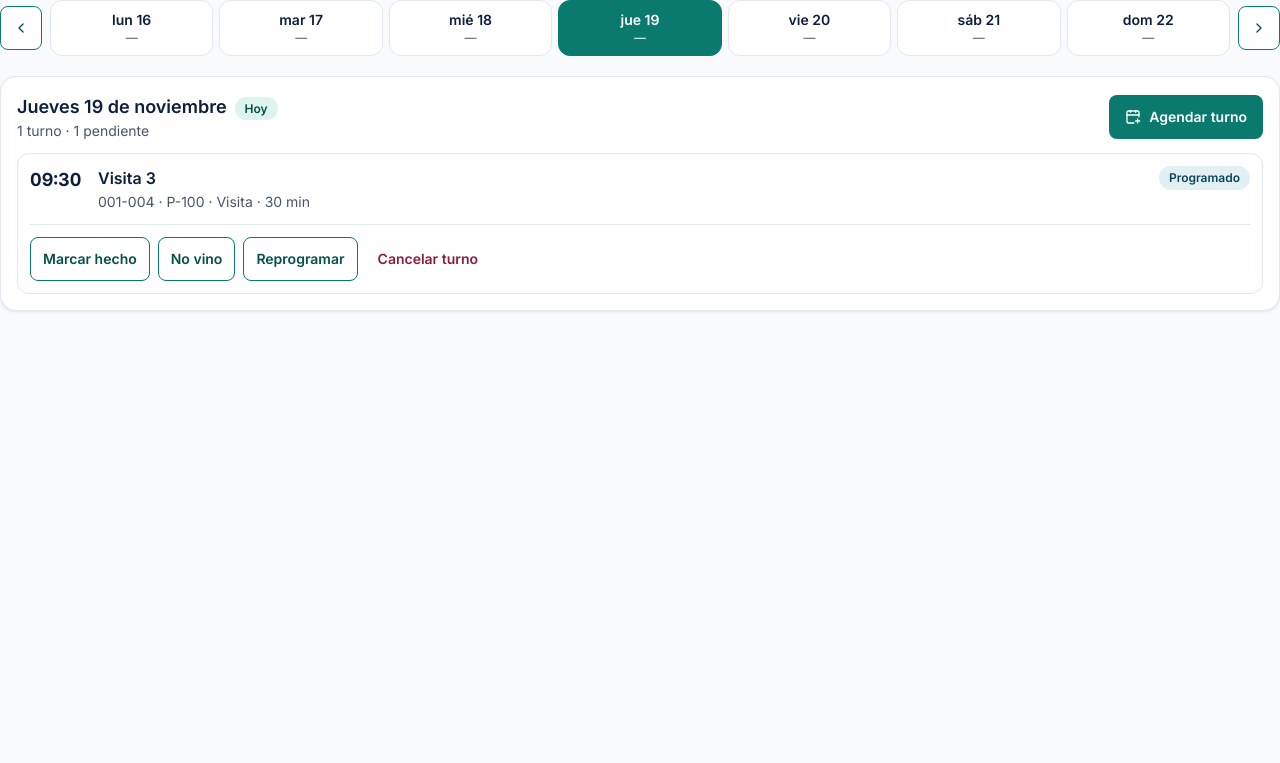
Test: AgendaBoard › alta: si no se pudo cargar la lista de sujetos lo dice y deja reintentar
Click the button "Agendar turno": (1186, 117) [1109,95,1263,139]
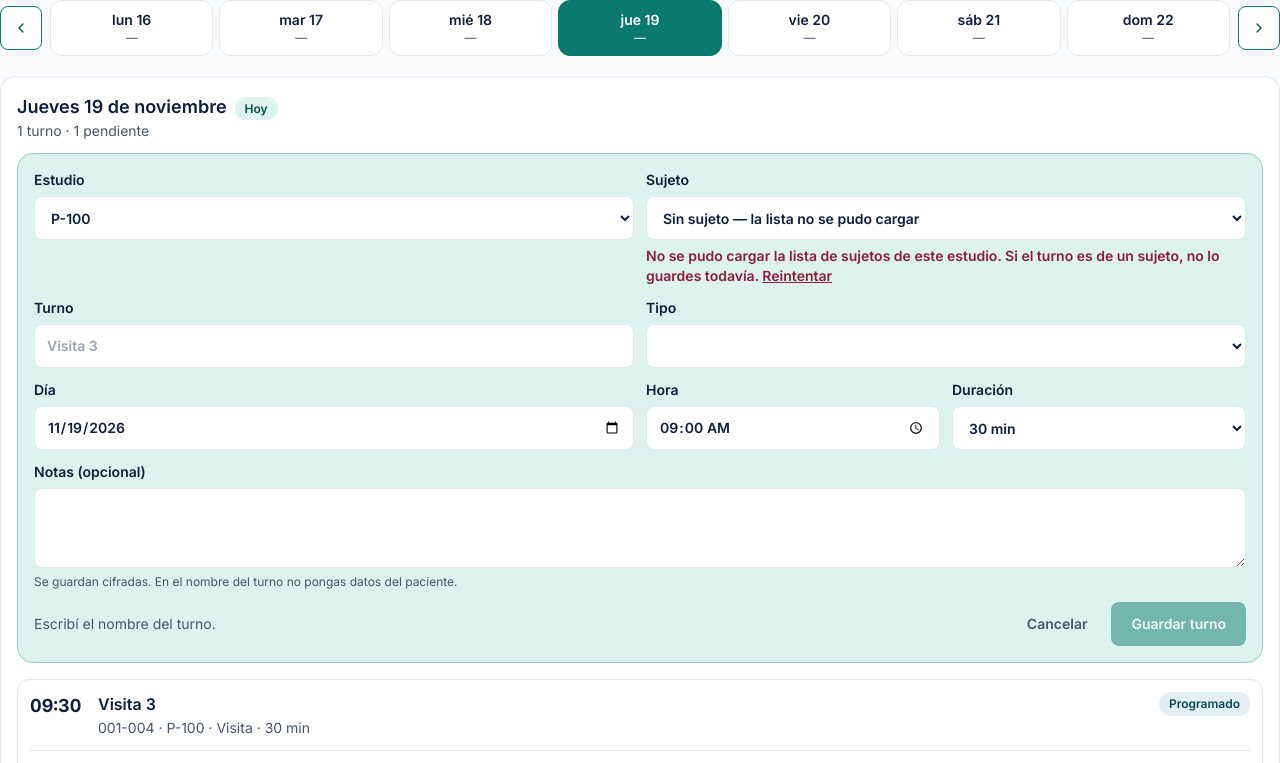
expect the button "Reintentar" is shown: met, box [762,266,832,286]
